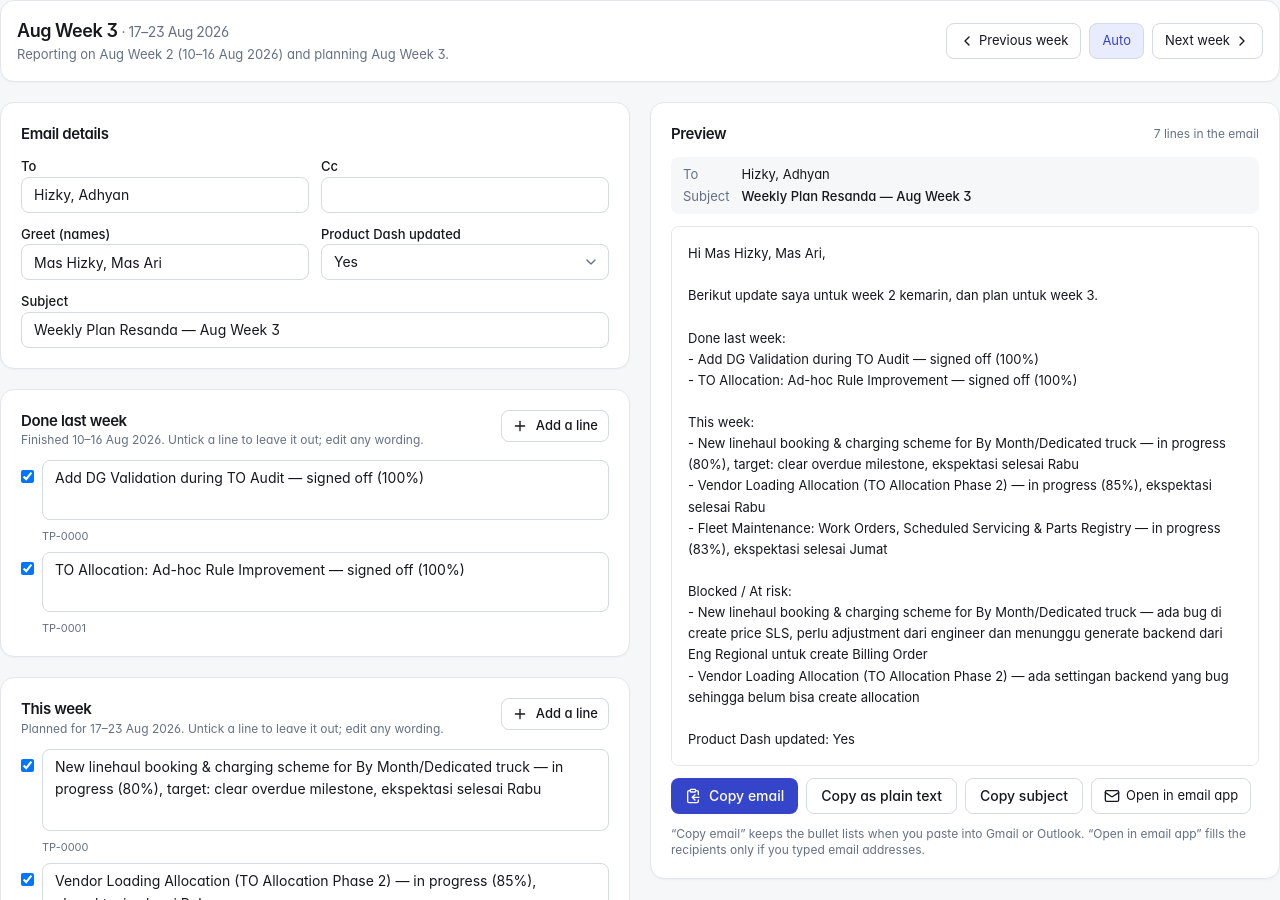
Test case: Weekly Report page › lets you leave a line out, reword one, and add your own
Later steps or results of the test are not shown.
Click the checkbox named "Include Done last week item 2" at (28, 568), box [21,562,34,575]
(page scrolled)
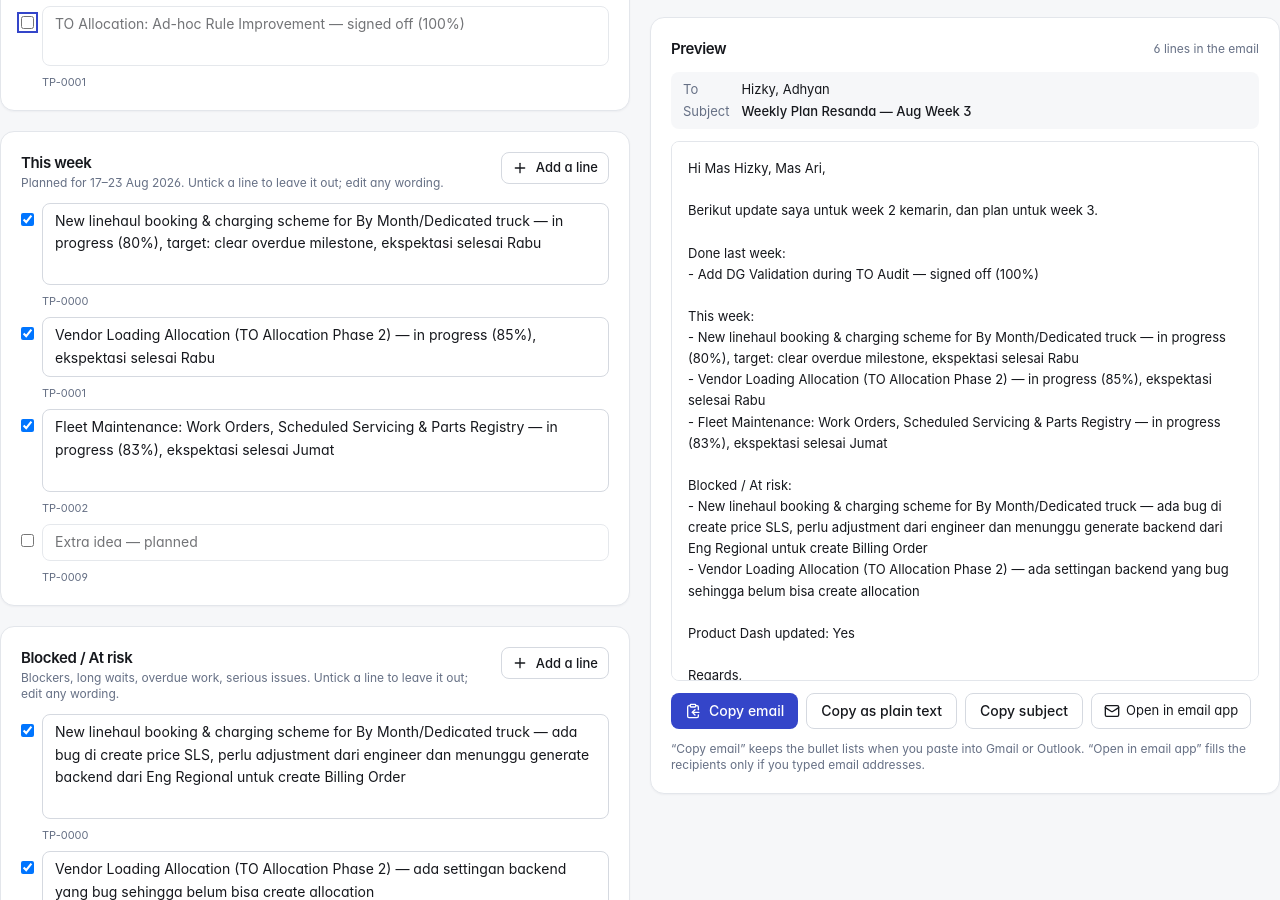
Expected: the text with test id "email-preview" no longer shows "Ad-hoc Rule Improvement"
Clear the text box named "This week item 3" at (326, 450), box [42,409,609,492]
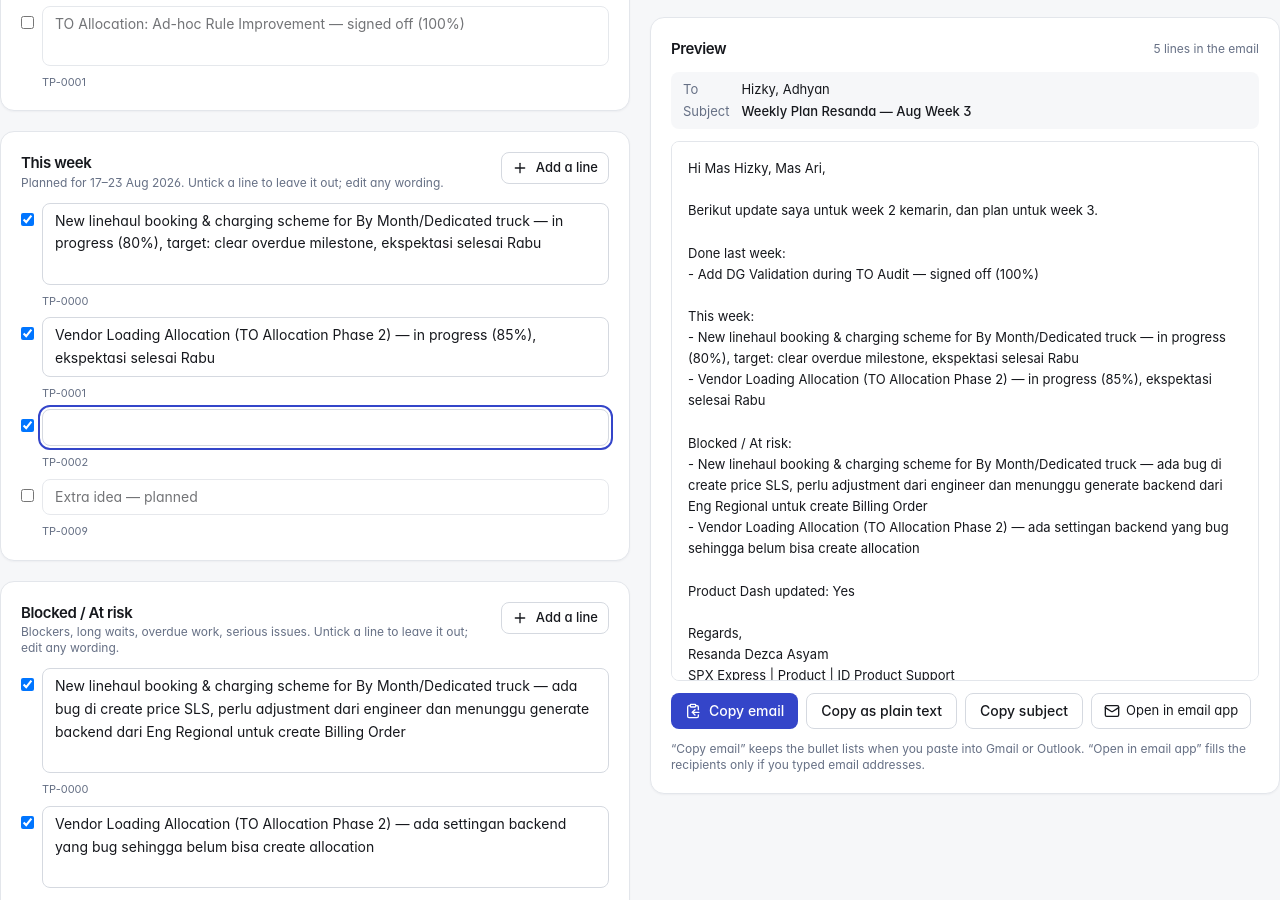
Type "Fleet Maintenance — in progress (90%), ekspektasi selesai Kamis" into the text box named "This week item 3" at (326, 428), box [42,409,609,446]
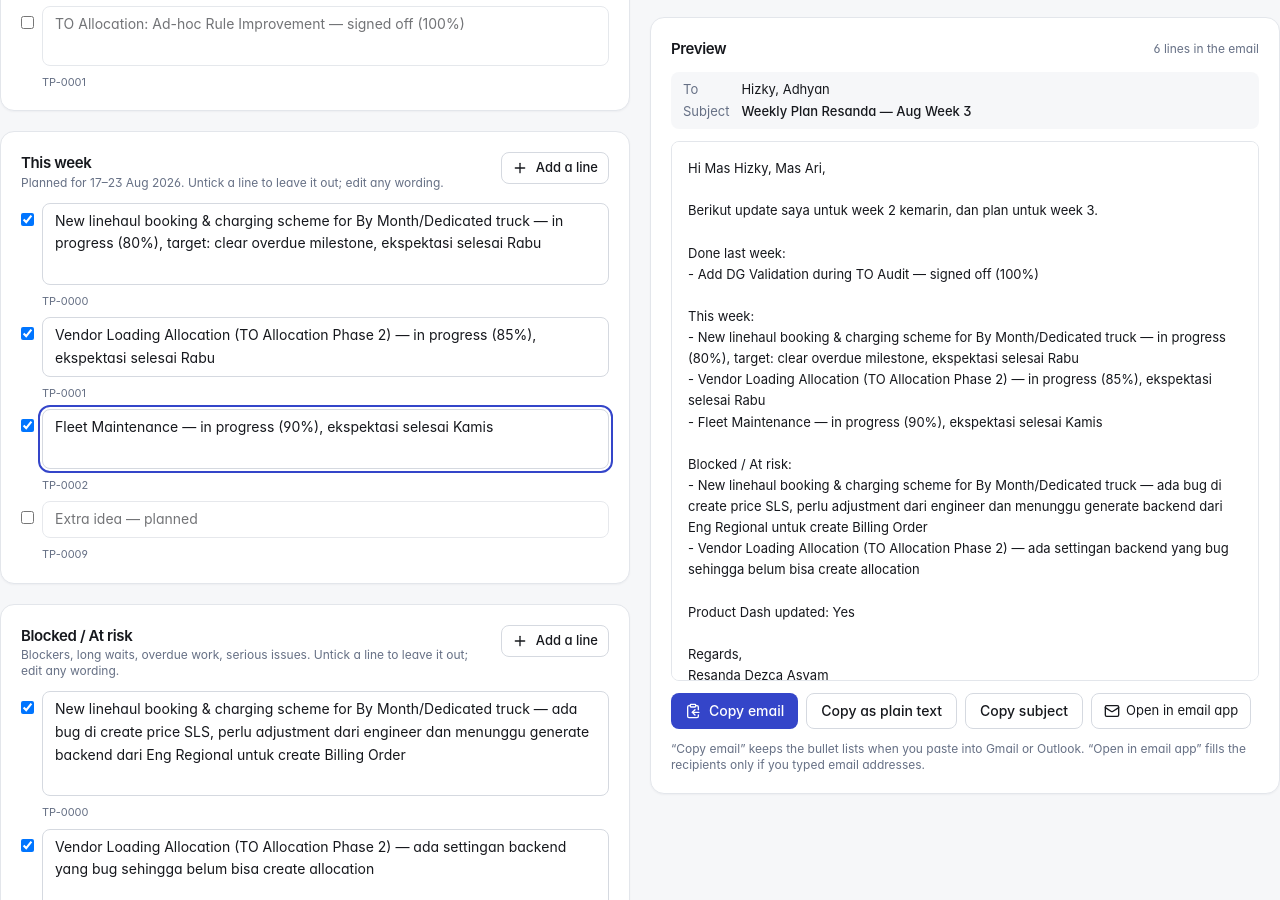
Expected: the text with test id "email-preview" shows "- Fleet Maintenance — in progress (90%), ekspektasi selesai Kamis", [688,160,1232,704]
Click the checkbox named "Include This week item 4" at (28, 518), box [21,511,34,524]
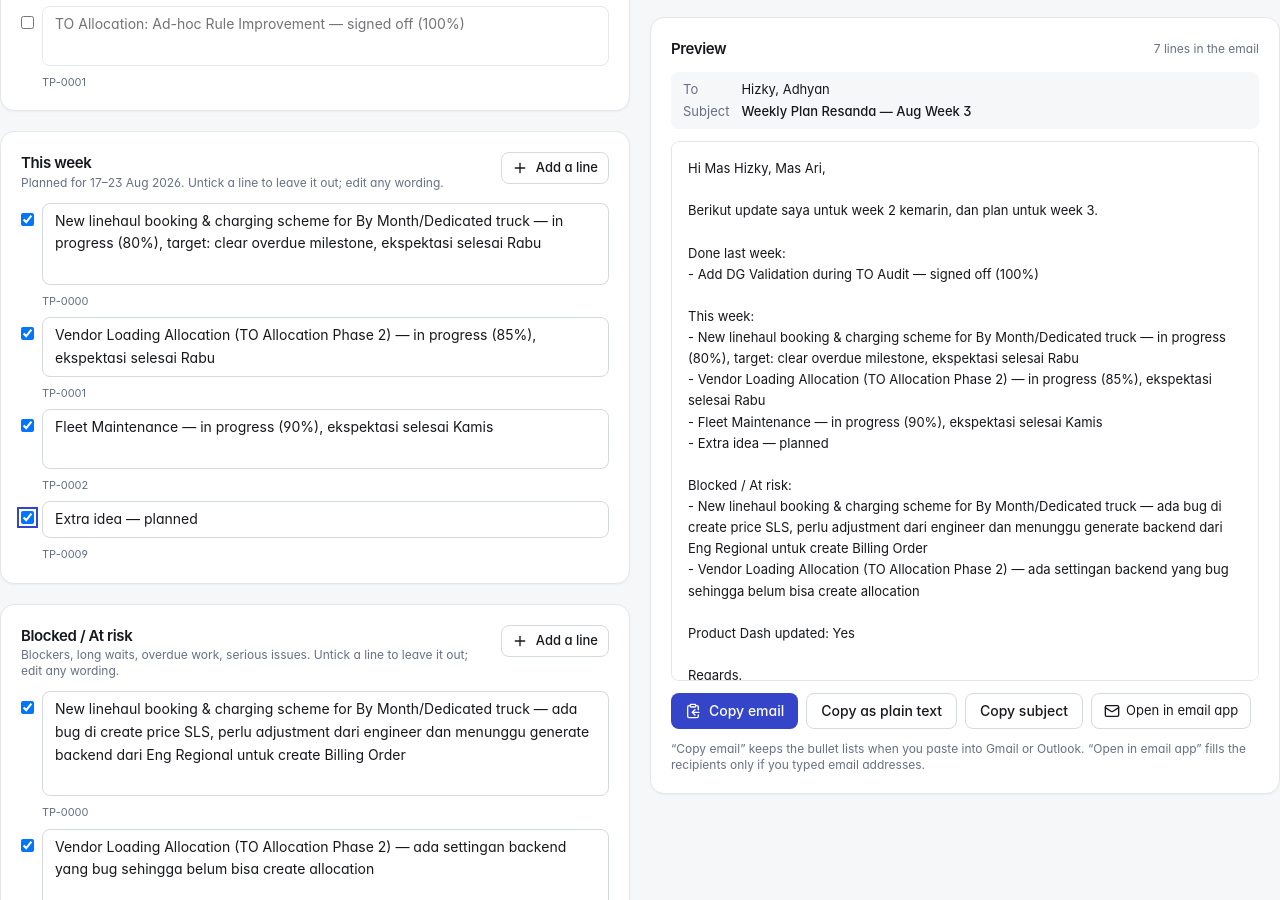
Expected: the text with test id "email-preview" shows "- Extra idea — planned", [688,160,1232,725]
